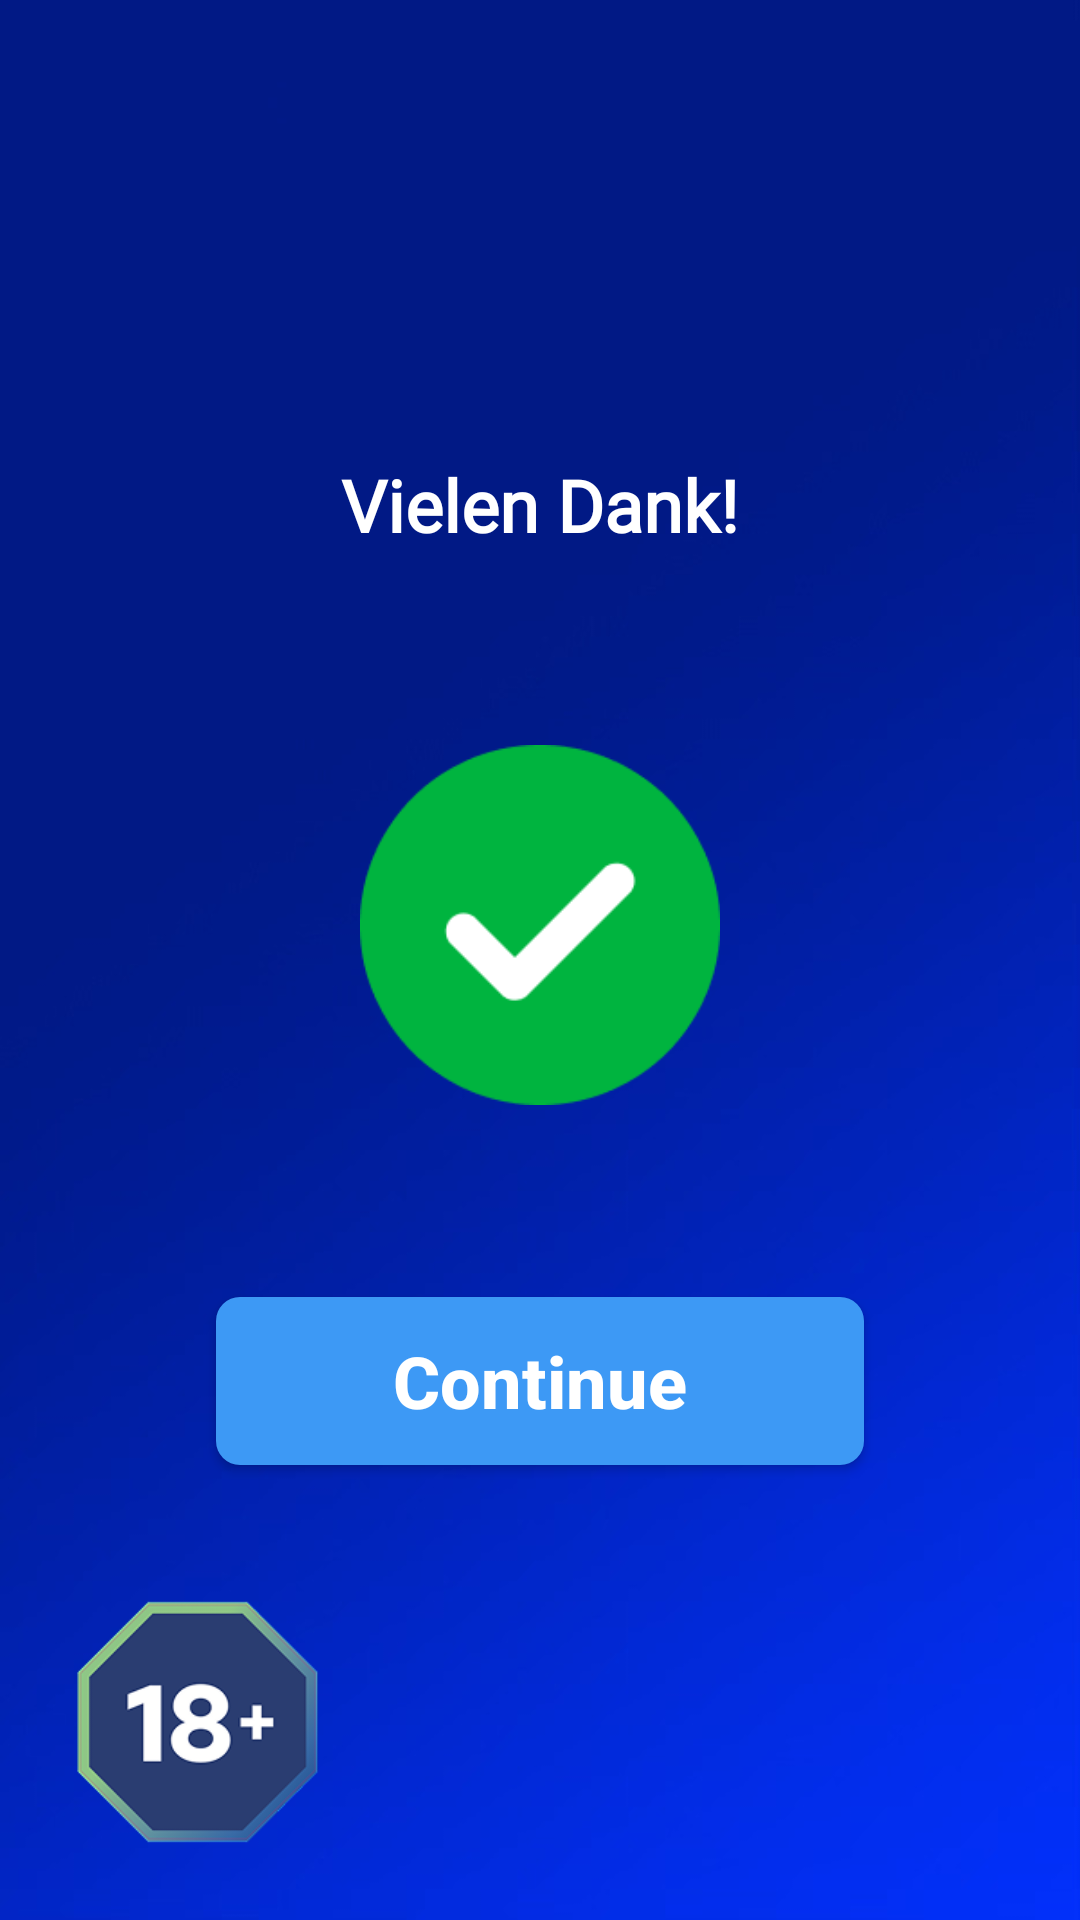

Where icons sit on this 1080x1920 app screen, as (x1, y1, x2, y2):
estimation success: (360, 745, 720, 1105)
